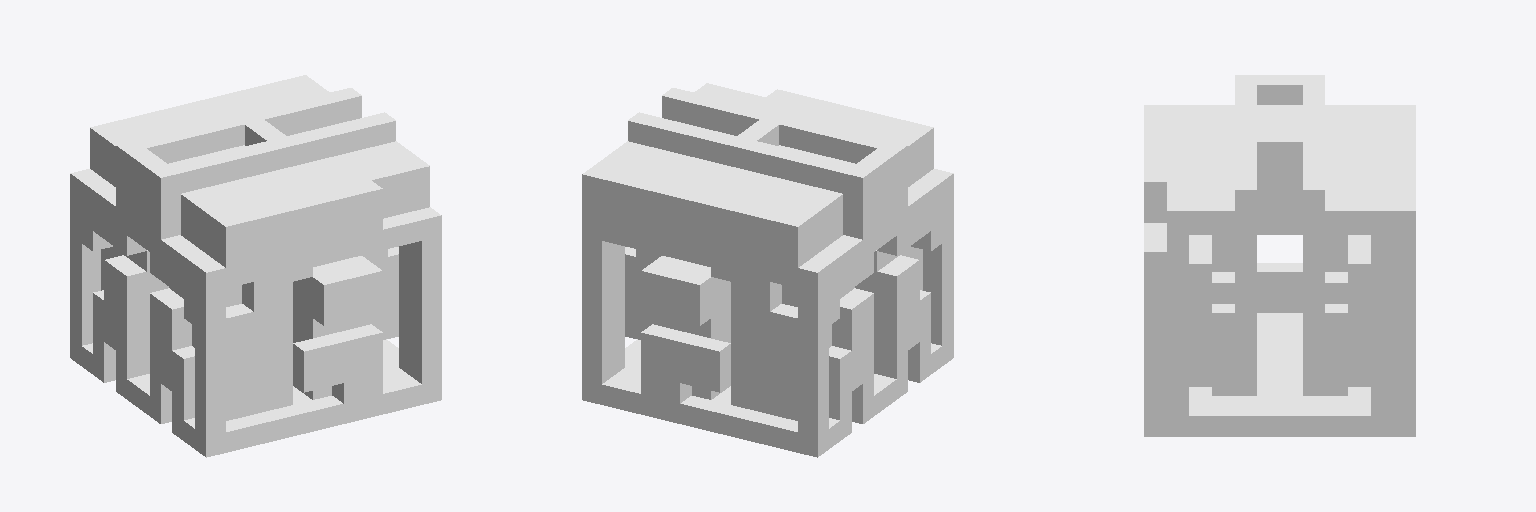
Rendered from netral.obj.
3 views of the same model, side by side, from view 1: azimuth 30°, elevation 25°; view 2: azimuth 150°, elevation 25°; view 3: azimuth 270°, elevation 25° (orthographic).
Parts seen in each view (by area): view 1: object 1; view 2: object 1; view 3: object 1.
Part boxes in pixels (x1,y1,x2,y2): object 1: (70, 75, 441, 457); object 1: (582, 83, 953, 457); object 1: (1144, 75, 1415, 436).
Size of the model in its own units: 1.2 by 1.2 by 1.2.